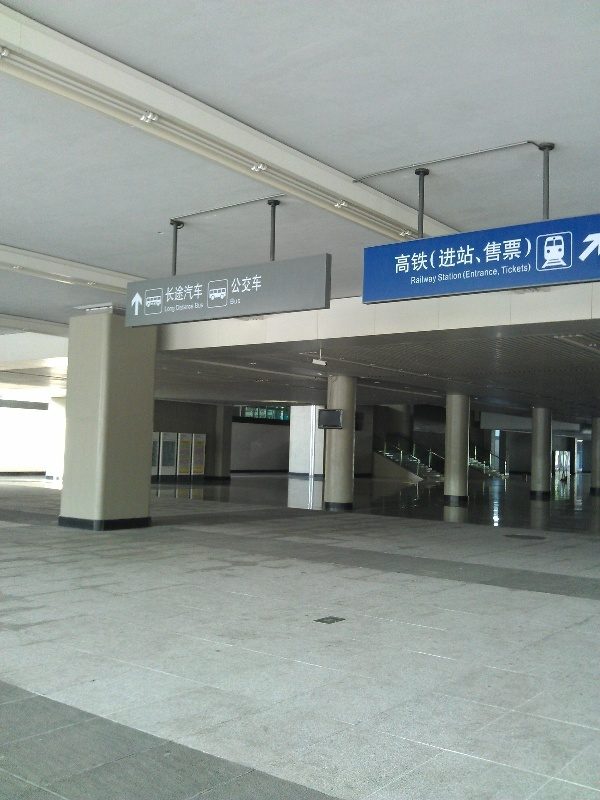text: (401, 236, 416, 275), (417, 236, 432, 275), (433, 236, 448, 275), (449, 236, 464, 275), (465, 236, 480, 275), (481, 236, 496, 275), (497, 236, 512, 275), (513, 236, 528, 275), (241, 274, 256, 295), (177, 283, 192, 303), (166, 283, 176, 303), (193, 283, 203, 303), (395, 236, 400, 275), (417, 274, 432, 287), (465, 267, 480, 280), (481, 267, 496, 280), (513, 263, 528, 276), (232, 274, 240, 295), (501, 263, 512, 276), (449, 272, 462, 282), (257, 274, 263, 295), (529, 236, 532, 275), (177, 304, 192, 311), (438, 272, 448, 282), (165, 305, 176, 314), (195, 303, 208, 310), (411, 274, 416, 287), (231, 298, 240, 305), (433, 274, 437, 287), (497, 267, 501, 280), (529, 263, 532, 276), (193, 304, 195, 311), (463, 267, 464, 280)
